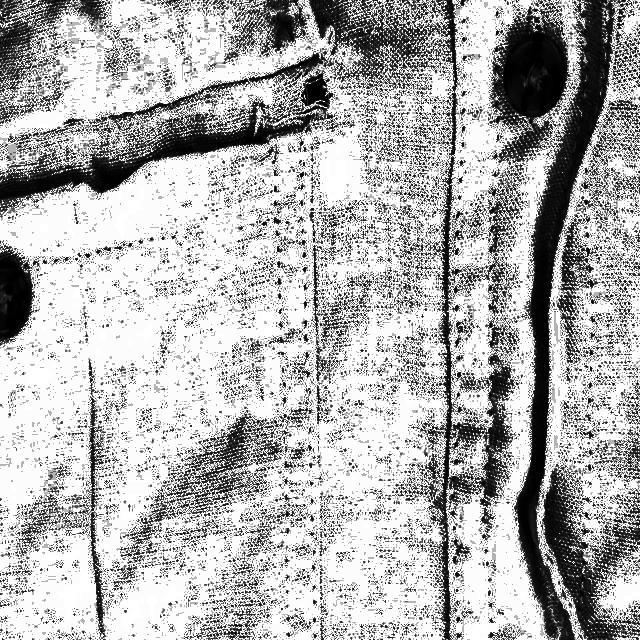Hole: (294, 68, 344, 124)
